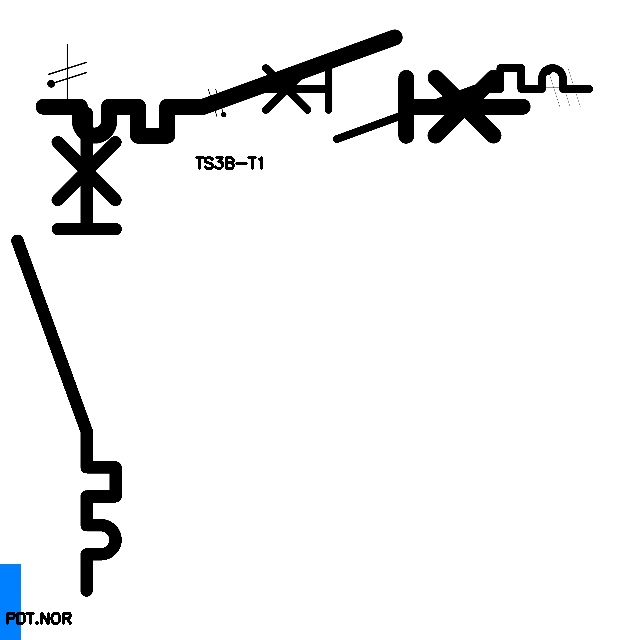interruptor_termomagnetico: (31, 25, 535, 148), (5, 100, 128, 602), (236, 59, 598, 147)
